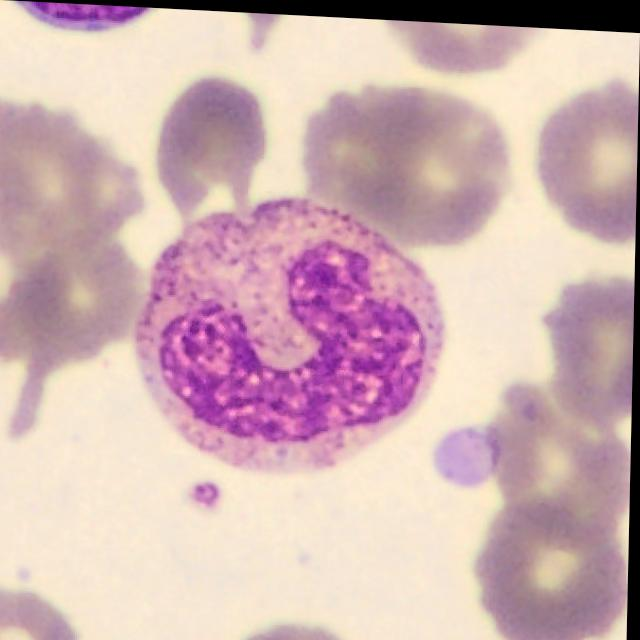Bastonete: (134, 192, 449, 471)
